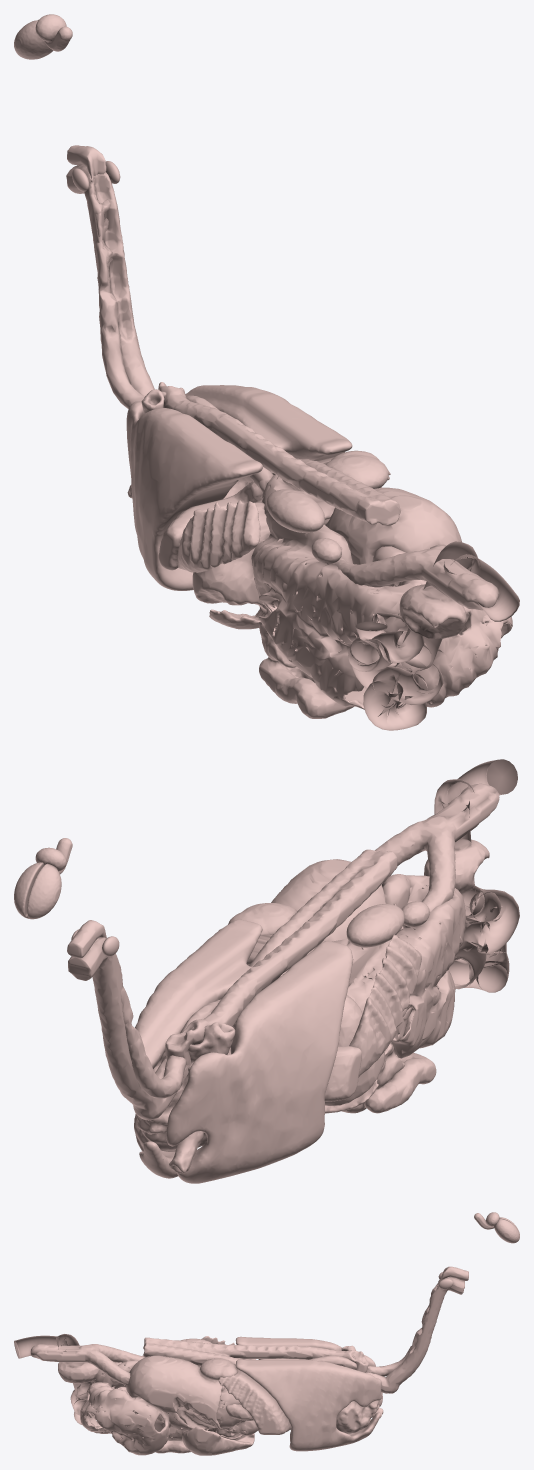
The model's file is visceral.glb.
3 renders of one model, top to bottom at view 1: azimuth 30°, elevation 25°; view 2: azimuth 150°, elevation 25°; view 3: azimuth 270°, elevation 25°, orthographic. The views are drawn at different scales.
Parts seen in each view (by area): view 1: horse_visceral_large-colon, horse_visceral_lungs_L, horse_visceral_small-colon, horse_visceral_great-vessels, horse_visceral_lungs_R, horse_visceral_cecum, horse_visceral_trachea, horse_visceral_uterus, horse_visceral_esophagus, horse_visceral_spleen, horse_visceral_stomach, horse_visceral_small-intestine (+5 smaller); view 2: horse_visceral_lungs_L, horse_visceral_large-colon, horse_visceral_great-vessels, horse_visceral_lungs_R, horse_visceral_small-colon, horse_visceral_uterus, horse_visceral_trachea, horse_visceral_spleen, horse_visceral_esophagus, horse_visceral_heart, horse_visceral_small-intestine, horse_visceral_cecum (+8 smaller); view 3: horse_visceral_lungs_R, horse_visceral_large-colon, horse_visceral_cecum, horse_visceral_great-vessels, horse_visceral_liver, horse_visceral_uterus, horse_visceral_trachea, horse_visceral_small-colon, horse_visceral_esophagus, horse_visceral_heart, horse_visceral_lungs_L, horse_visceral_urinary-bladder (+3 smaller).
Part boxes in pixels (x1,y1,x2,y2): horse_visceral_large-colon: (251, 474, 512, 709); horse_visceral_lungs_L: (126, 401, 262, 590); horse_visceral_small-colon: (348, 541, 519, 730); horse_visceral_great-vessels: (158, 382, 400, 525); horse_visceral_lungs_R: (185, 385, 352, 460); horse_visceral_cecum: (324, 487, 461, 564); horse_visceral_trachea: (66, 165, 154, 396); horse_visceral_uterus: (327, 544, 498, 610); horse_visceral_esophagus: (67, 145, 273, 502); horse_visceral_spleen: (177, 500, 260, 572); horse_visceral_stomach: (192, 502, 274, 629); horse_visceral_small-intestine: (258, 591, 353, 718); horse_visceral_lungs_L: (166, 941, 353, 1183); horse_visceral_large-colon: (247, 874, 465, 1058); horse_visceral_great-vessels: (165, 849, 397, 1065); horse_visceral_lungs_R: (135, 919, 262, 1178); horse_visceral_small-colon: (434, 759, 519, 992); horse_visceral_uterus: (375, 783, 499, 927); horse_visceral_trachea: (68, 937, 190, 1120); horse_visceral_spleen: (349, 934, 421, 1077); horse_visceral_esophagus: (67, 920, 220, 1098); horse_visceral_heart: (134, 1022, 235, 1173); horse_visceral_small-intestine: (342, 973, 436, 1113); horse_visceral_cecum: (271, 859, 386, 942); horse_visceral_lungs_R: (235, 1359, 381, 1451); horse_visceral_large-colon: (80, 1355, 257, 1455); horse_visceral_cecum: (126, 1355, 254, 1455); horse_visceral_great-vessels: (143, 1337, 368, 1372); horse_visceral_liver: (218, 1358, 291, 1434); horse_visceral_uterus: (30, 1344, 144, 1385); horse_visceral_trachea: (366, 1276, 464, 1393); horse_visceral_small-colon: (14, 1334, 96, 1424); horse_visceral_esophagus: (308, 1266, 468, 1376); horse_visceral_heart: (336, 1345, 383, 1433); horse_visceral_lungs_L: (235, 1336, 382, 1430); horse_visceral_urinary-bladder: (58, 1362, 99, 1383).
Size of the model in its own units: 0.4813 by 1.07 by 2.05.
